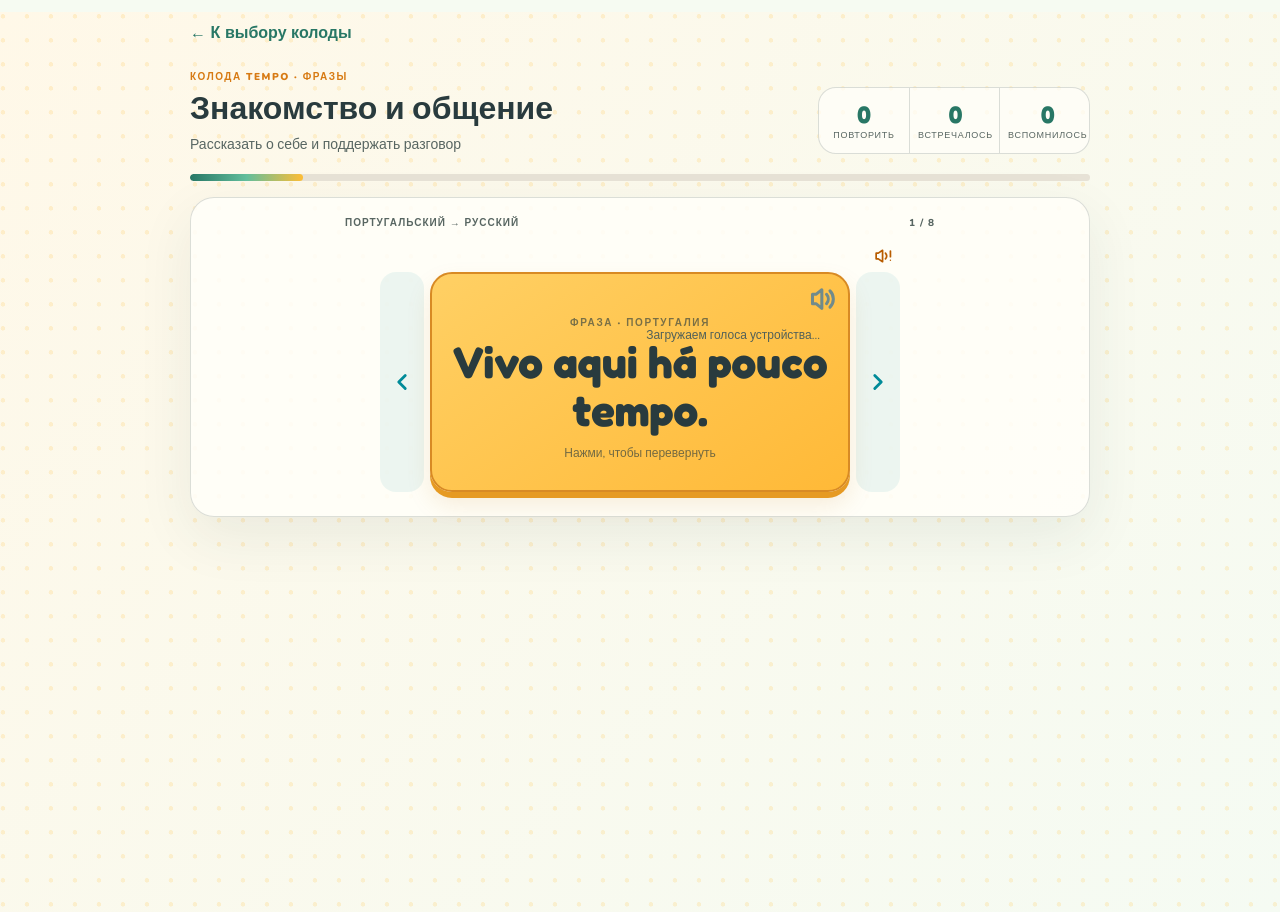
Scenario: a phrase flips to Russian, rating advances and manual previous resets the flip
This screenshot has width=1280, height=912.
Click the button with aria-label "Перевернуть карточку Tempo". click: point(640, 382)
box: [430, 272, 850, 492]
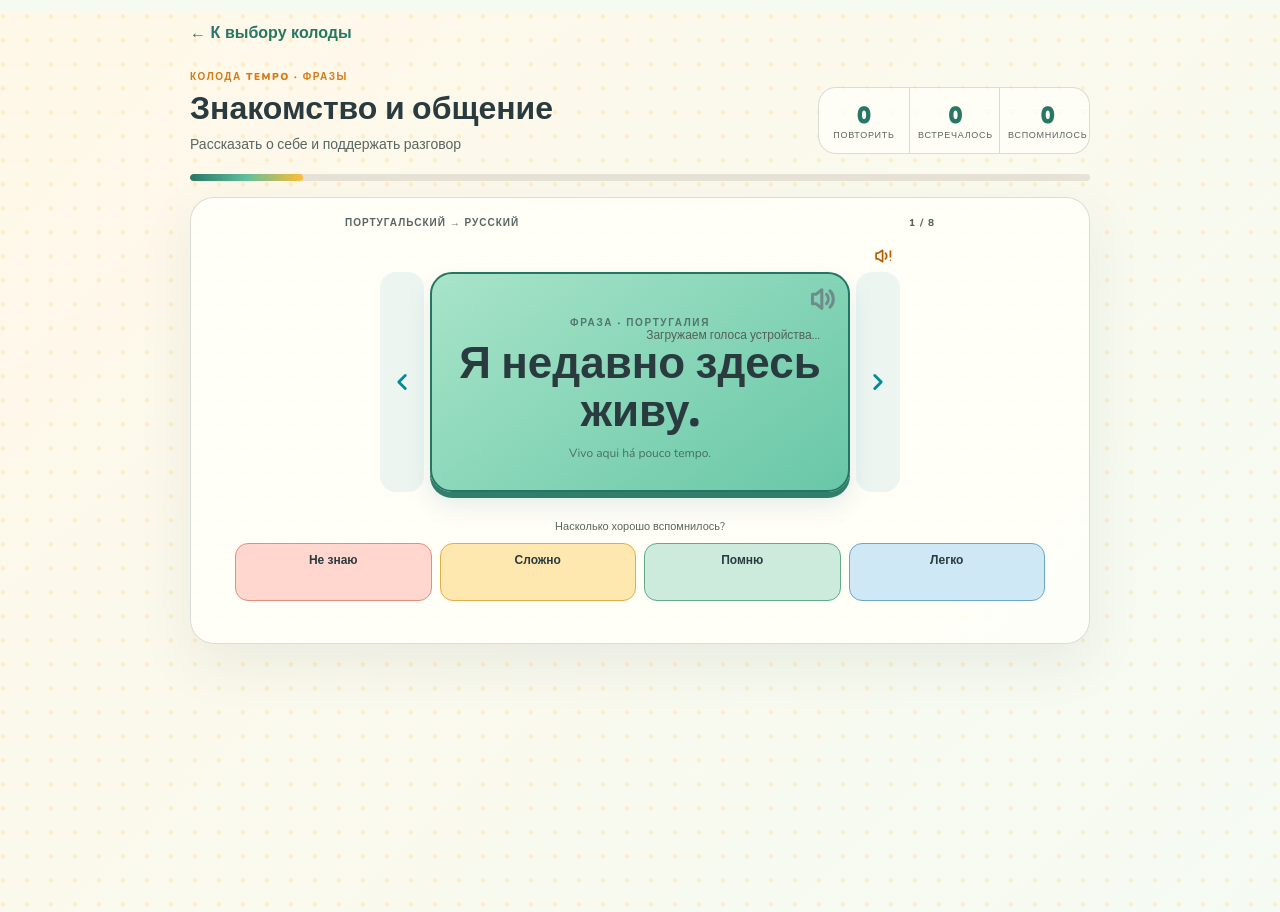
Now the text "Я недавно здесь живу." is shown, box [446, 338, 834, 433]
Click the button "Помню". click: point(742, 572)
box: [644, 543, 840, 601]
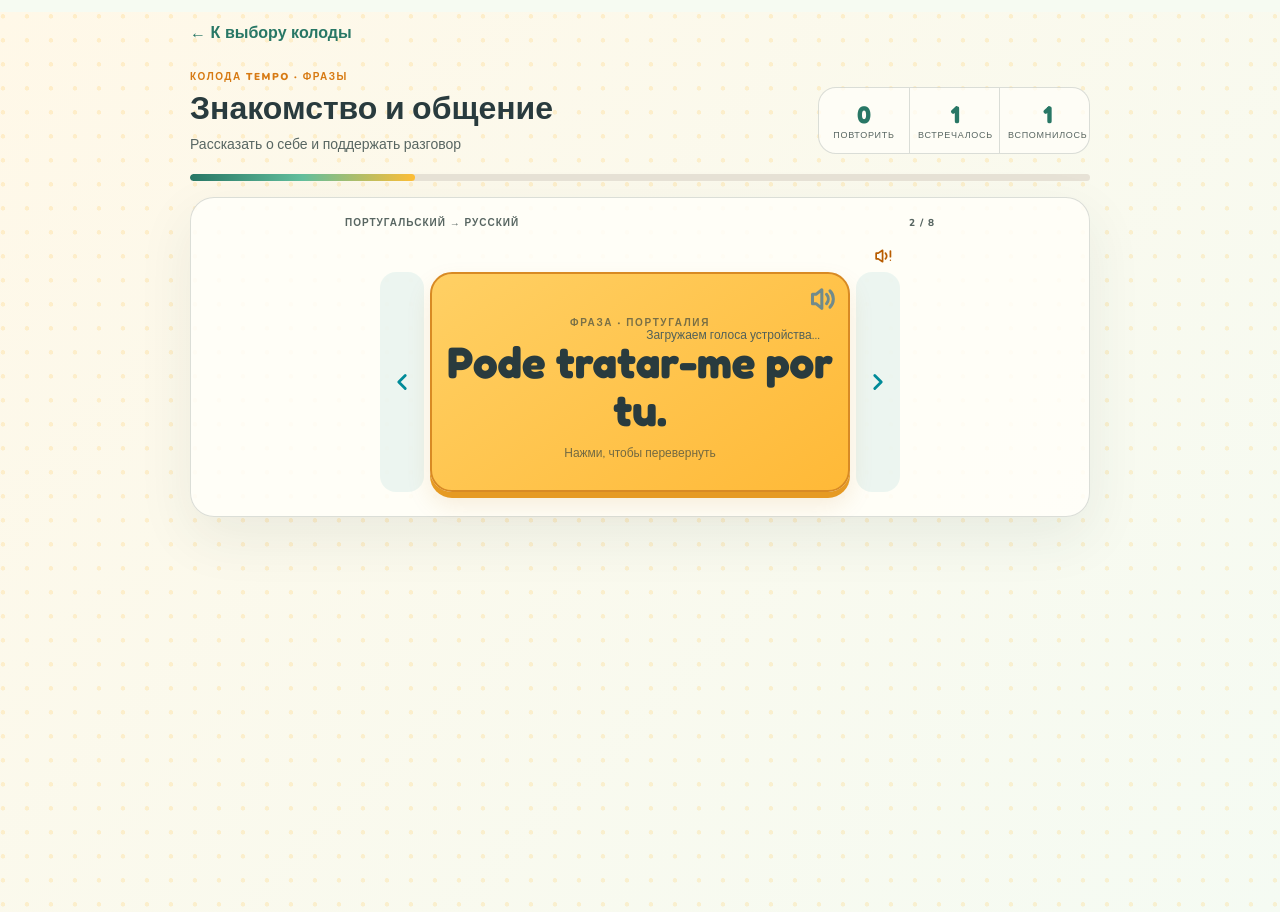
Now the text "Pode tratar-me por tu." is shown, box [446, 338, 834, 433]
Click the button named "Предыдущая карточка". click: point(402, 382)
box: [380, 272, 424, 492]
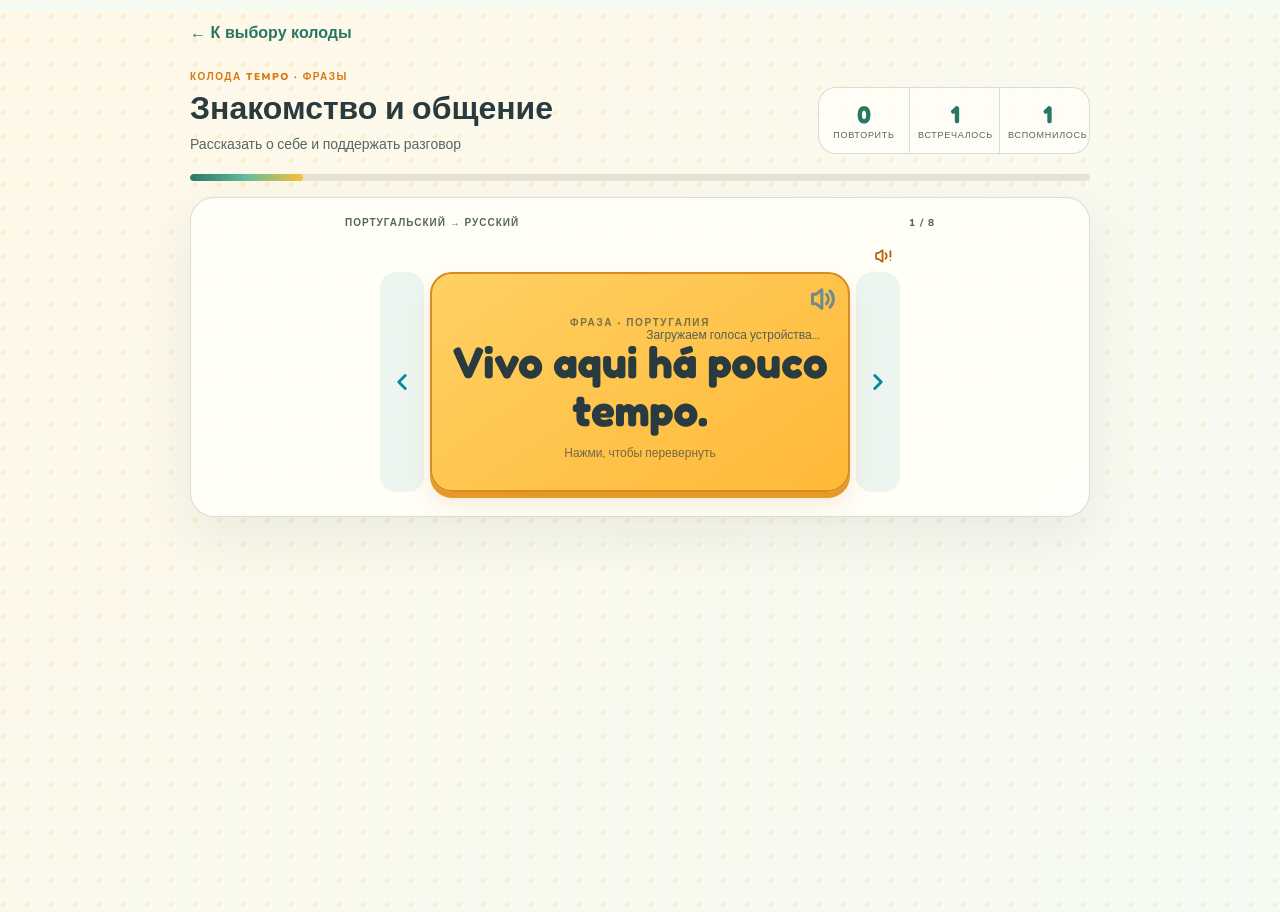
Now the text "Vivo aqui há pouco tempo." is shown, box [446, 338, 834, 433]
